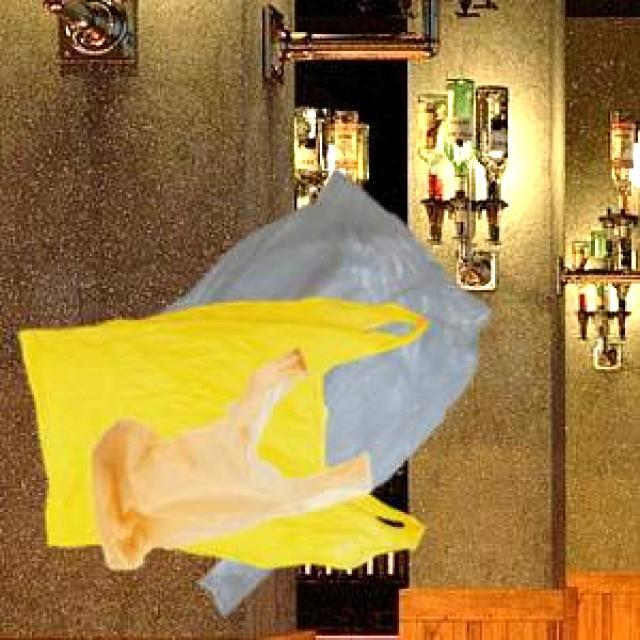Plastic_Bag: (155, 168, 488, 612), (16, 294, 426, 566), (89, 344, 368, 566)
